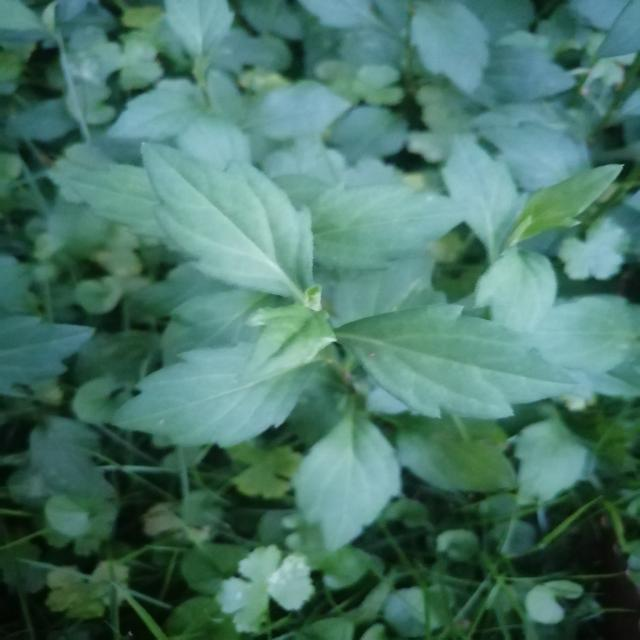Indian aster: (158, 163, 597, 530)
